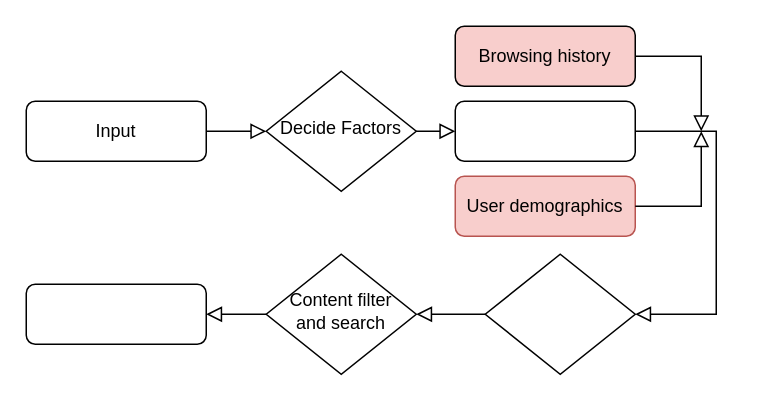
This 758x401 diagram has some shape labels left out. The shapes that lost their labels are listed below. From the top down, each one's centre as x and y in pixels, then its label:
(x=544, y=130): User interactions with advertisements
(x=115, y=313): Ouput
(x=559, y=313): Weigted computation
